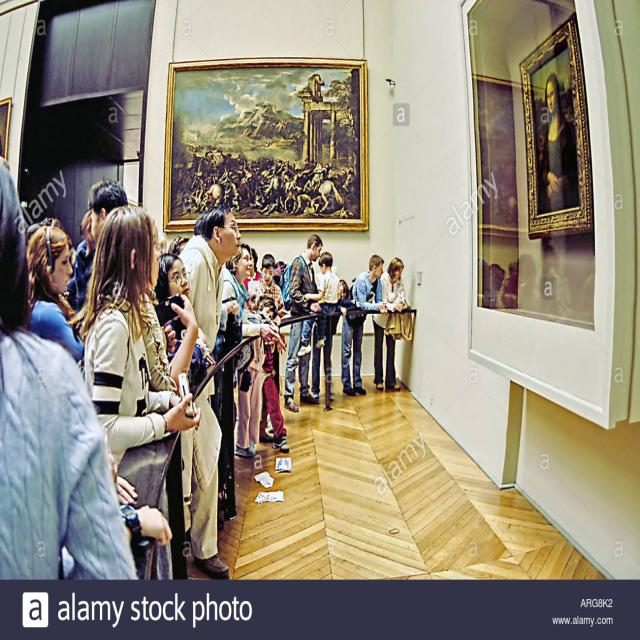body: (0, 154, 145, 580), (474, 68, 606, 342), (74, 203, 204, 473), (176, 200, 244, 580), (164, 118, 366, 222), (24, 179, 129, 339), (154, 251, 218, 403), (213, 241, 261, 434), (24, 220, 87, 367), (280, 231, 324, 414), (232, 296, 279, 463), (341, 254, 390, 398), (255, 294, 290, 454), (311, 278, 353, 402), (371, 256, 407, 393), (260, 254, 286, 433), (302, 251, 342, 351), (242, 237, 289, 291), (155, 228, 196, 258), (244, 294, 258, 316)
